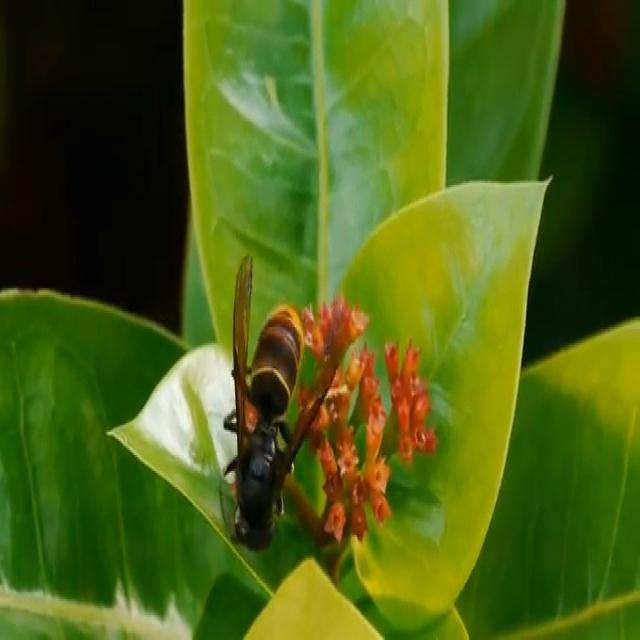Hornets: (218, 251, 346, 553)
